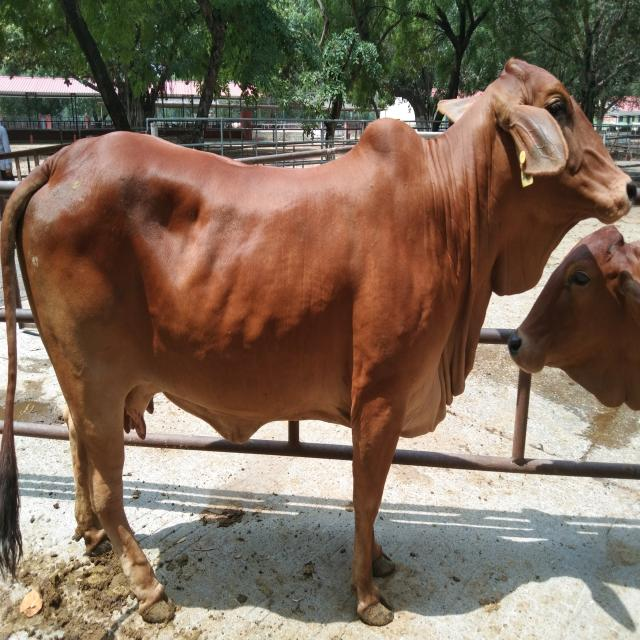cow: (0, 57, 638, 628)
hump: (358, 116, 422, 158)
